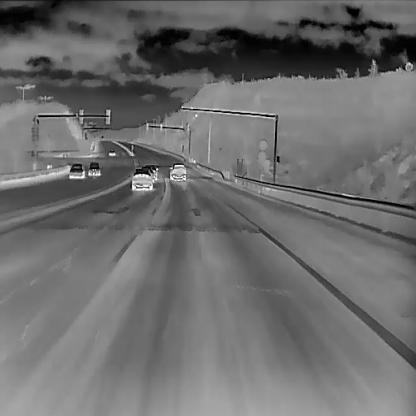car: (131, 167, 153, 190), (169, 162, 186, 180), (67, 162, 84, 178), (144, 164, 158, 180), (87, 160, 100, 176), (107, 148, 115, 155)
